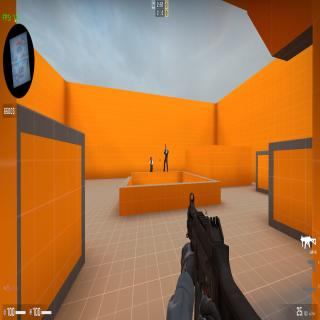T-Body: (163, 144, 168, 172), (149, 156, 153, 172)
T-Head: (150, 156, 152, 160), (165, 144, 166, 149)
